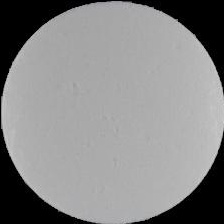23155-043: (0, 0, 224, 224)
